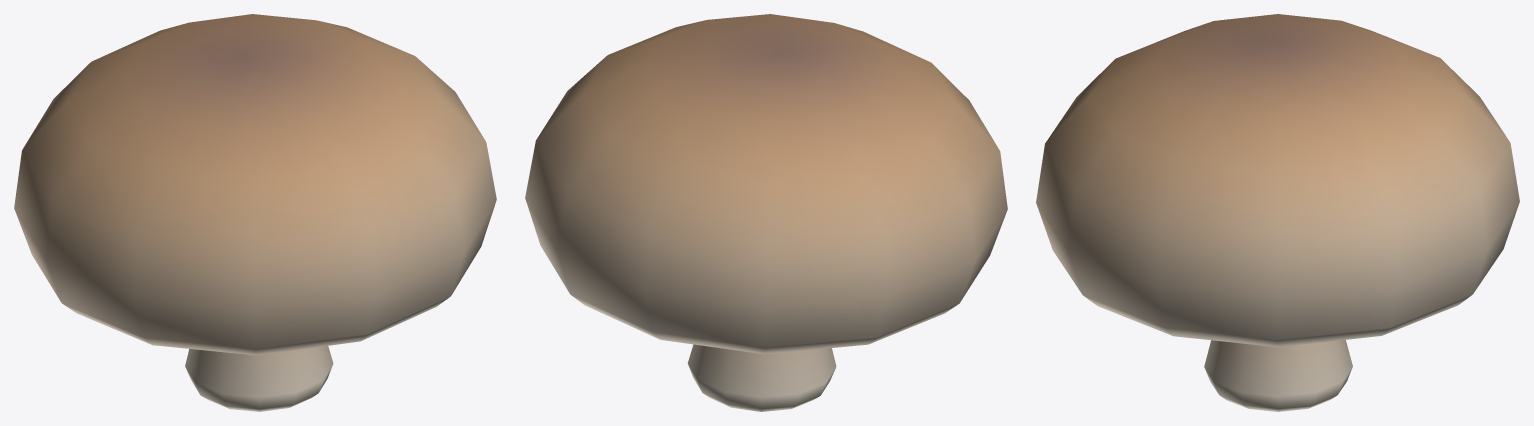
The model's file is Mashroom.fbx.
3 views of the same model, side by side, from view 1: azimuth 30°, elevation 25°; view 2: azimuth 150°, elevation 25°; view 3: azimuth 270°, elevation 25° (orthographic).
Visible parts, largest first — view 1: Mashroom; view 2: Mashroom; view 3: Mashroom.
Boxes of the visible parts, x1,y1,x2,y2 form: Mashroom: [14, 14, 496, 411]; Mashroom: [525, 14, 1007, 411]; Mashroom: [1036, 14, 1519, 411].
Bounding box in the file's own units: 2.04 × 1.57 × 2.04.
